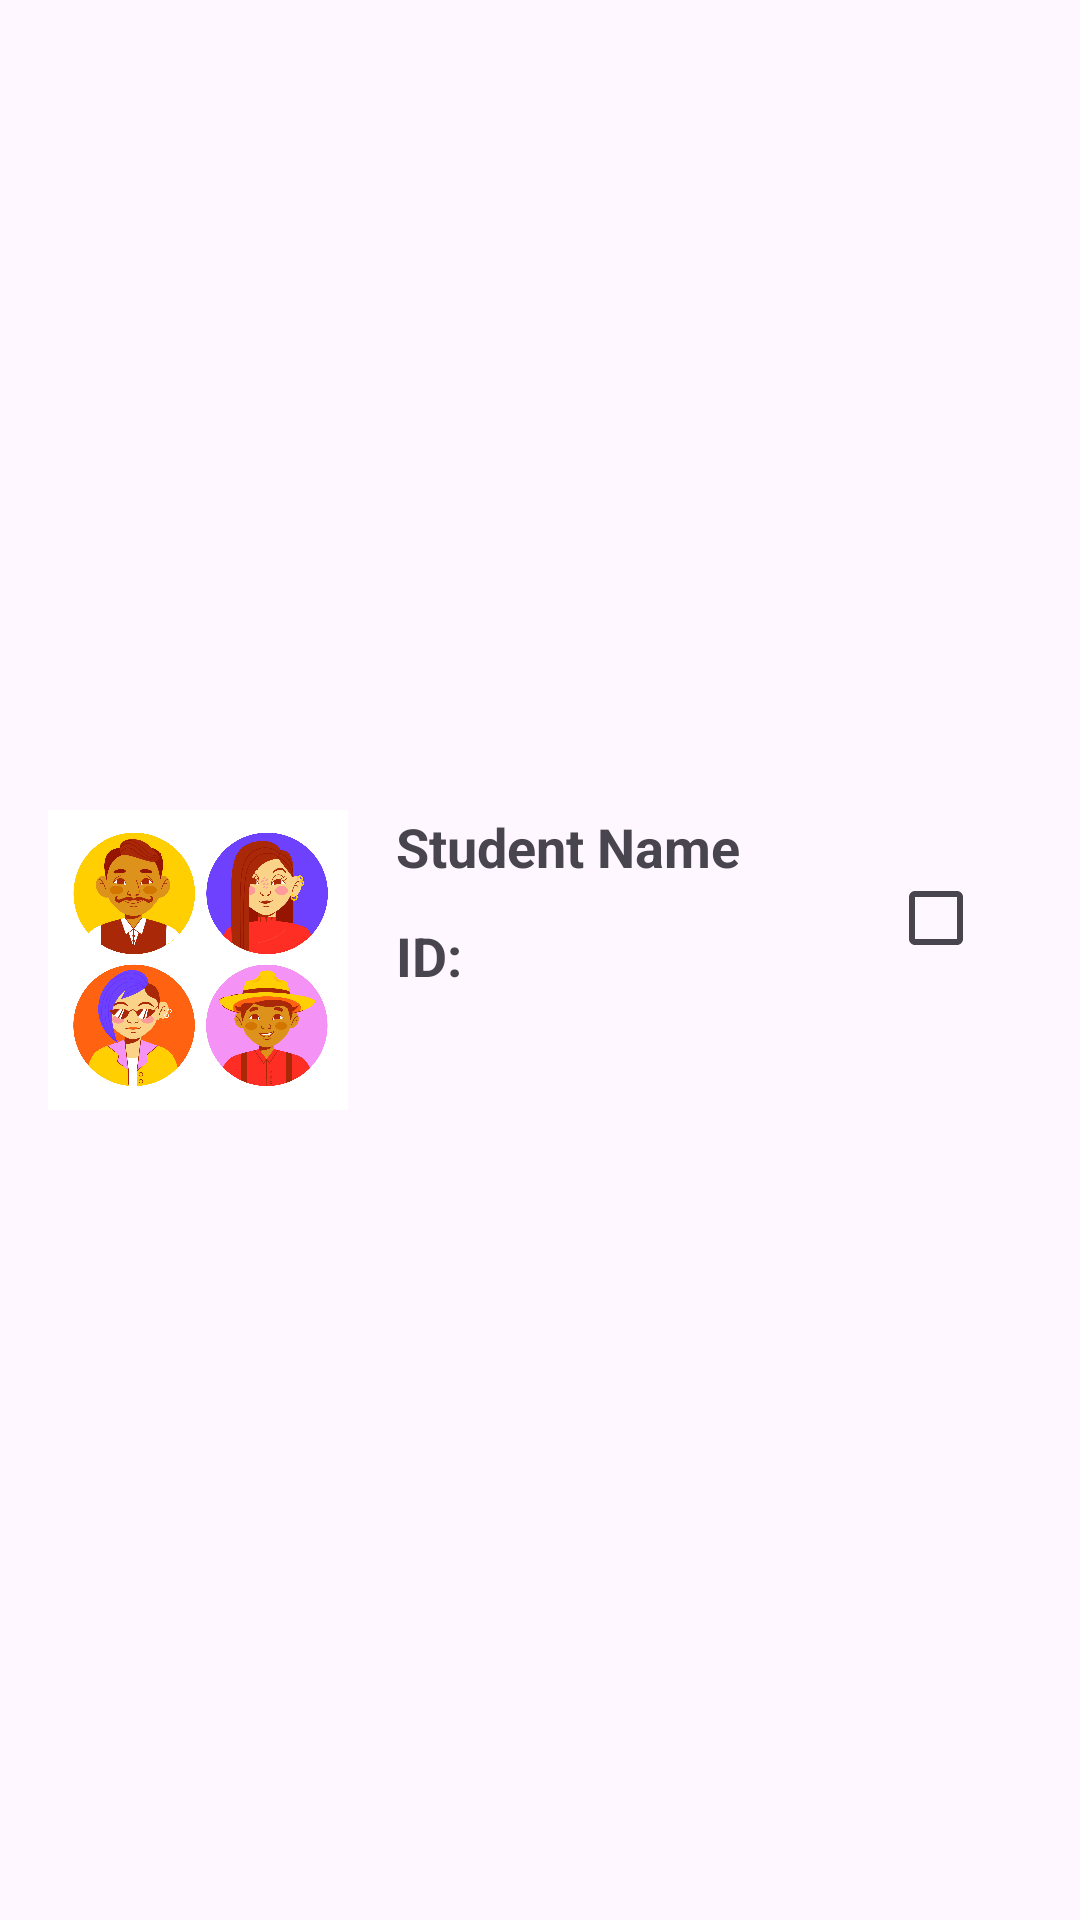

Where icons sit on this 1080×1920 app screen, as [x1=x1, y1=y1, x2=x2, y2=y2]:
Student Avatar: [x1=73, y1=833, x2=328, y2=1086]
